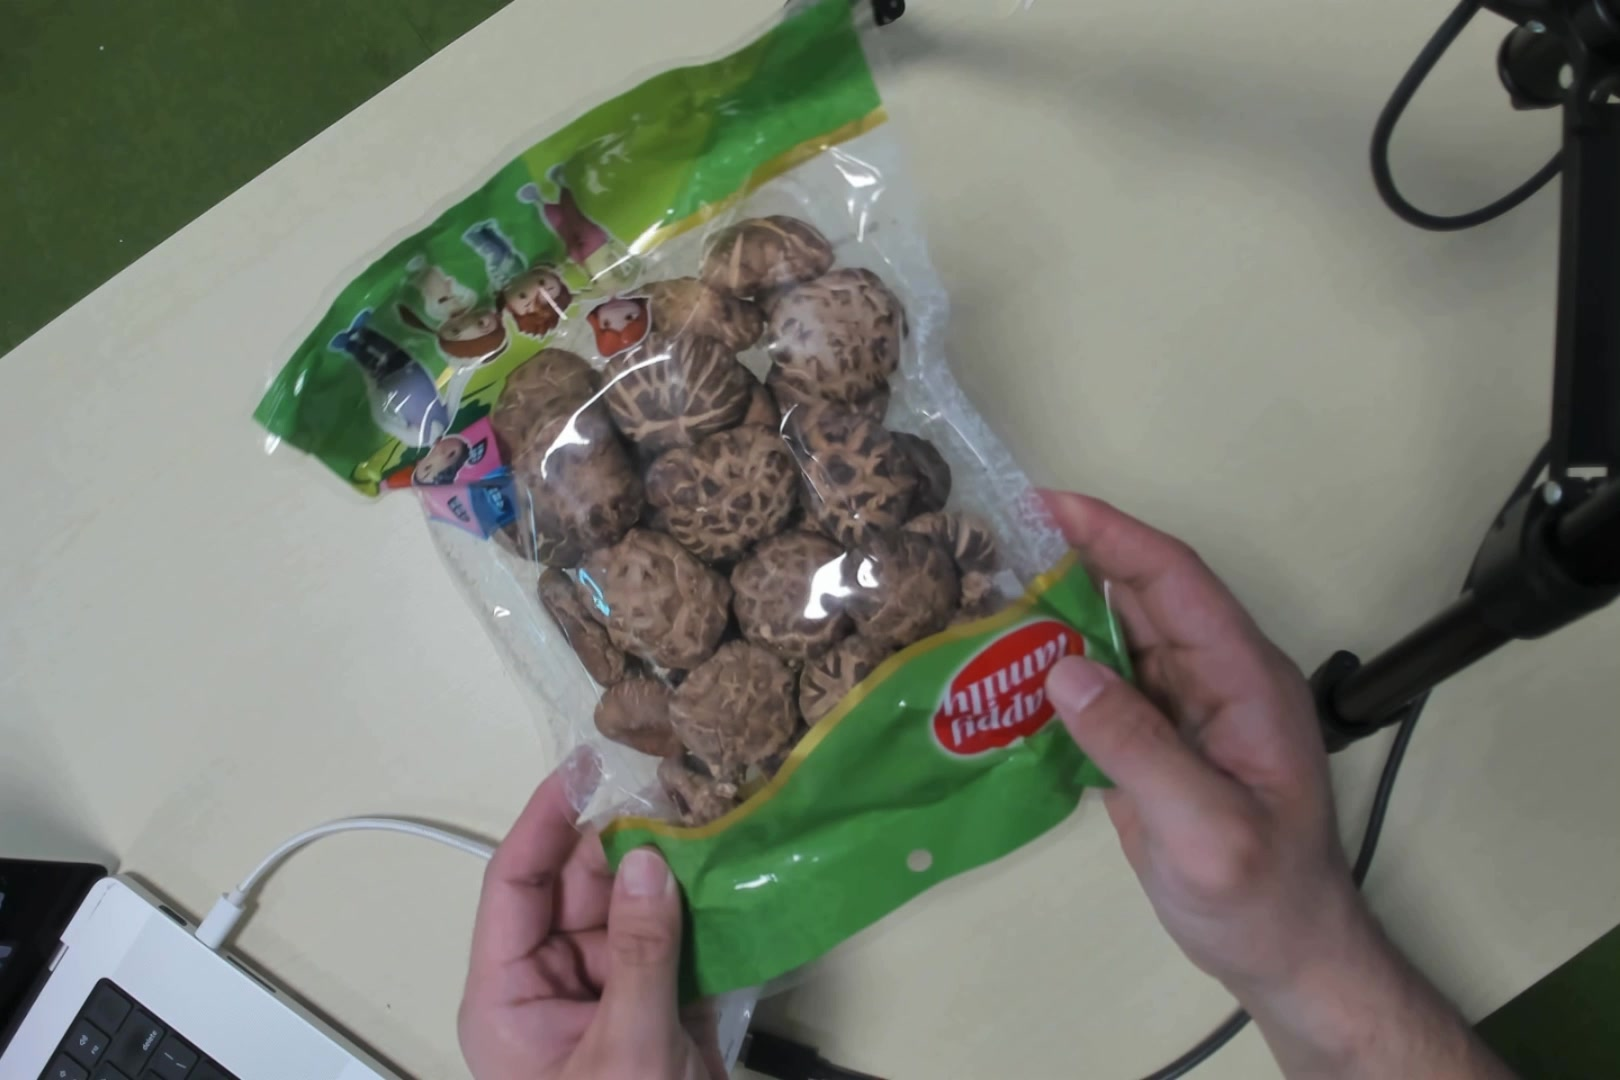OtherDriedFood_100-199g_NonHalal_NonHealthy: (392, 81, 1067, 884)
